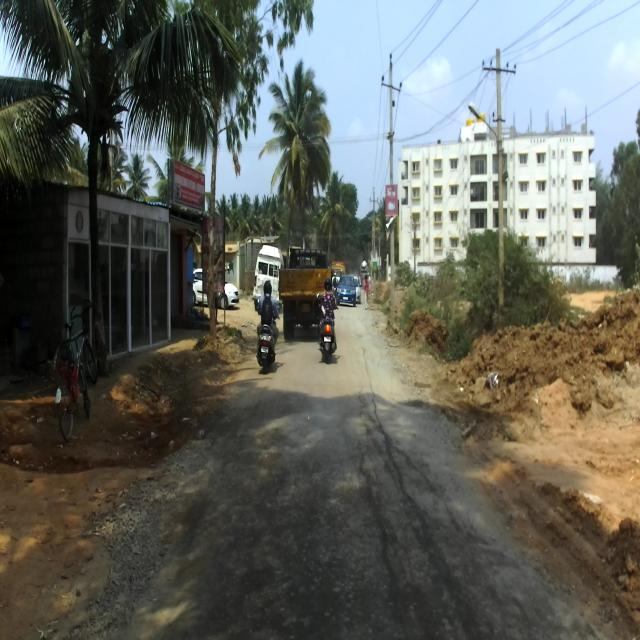bicycle ahead at: (47, 321, 97, 456)
